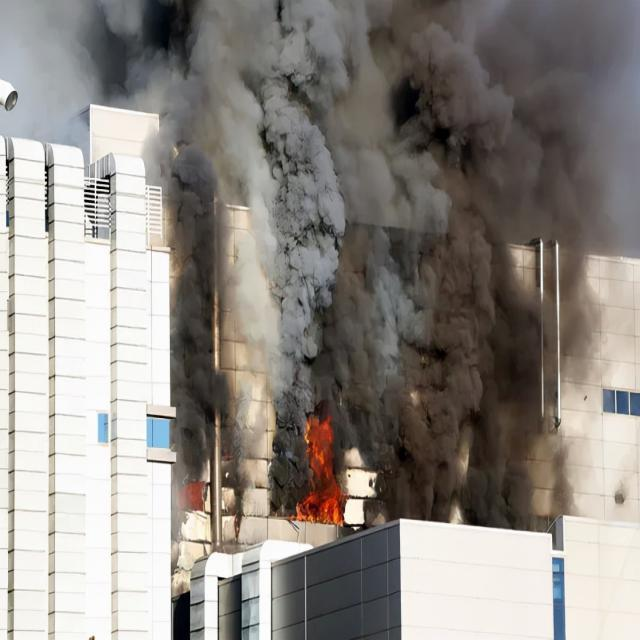Fire: (305, 420, 344, 522)
Smoke: (257, 82, 350, 378), (395, 235, 488, 508)
